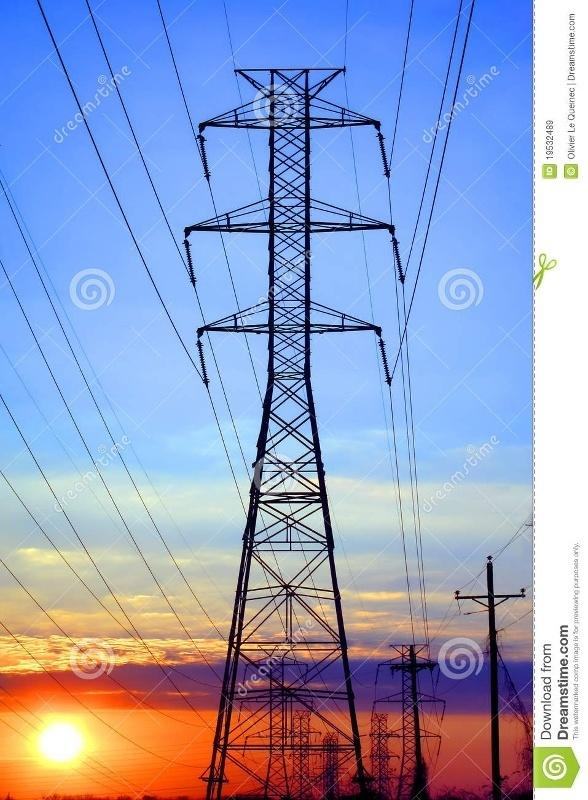power_tower: (162, 40, 429, 700)
